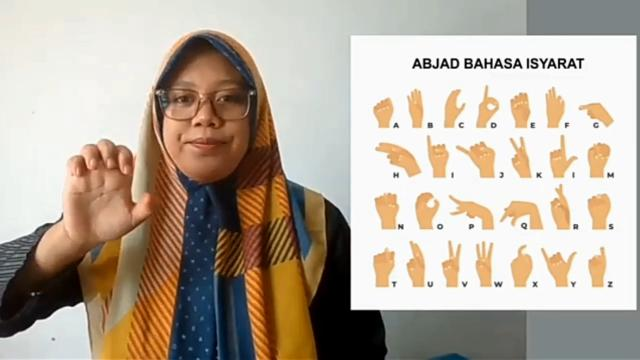E: (63, 136, 155, 246)
